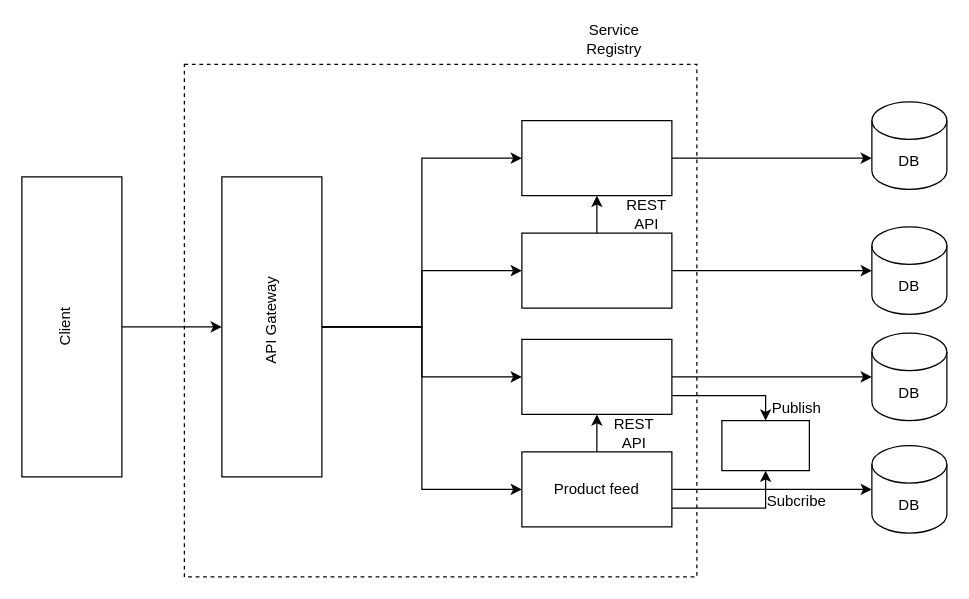
Image size: 969x599. Some labels were removed from this diagram. The centre of each missing label's shape, as x and y in pixels:
Auth: [596,157]
Kafka: [765,445]
Product: [596,376]
User: [596,270]
